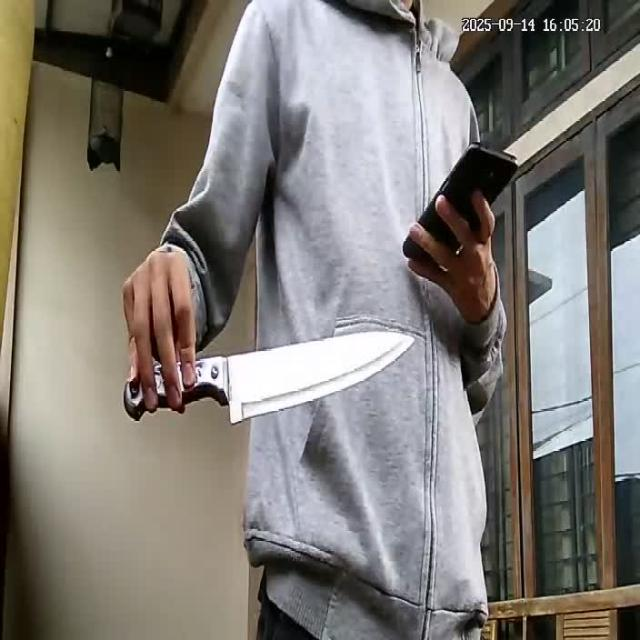senjata_tajam: (196, 329, 421, 427)
